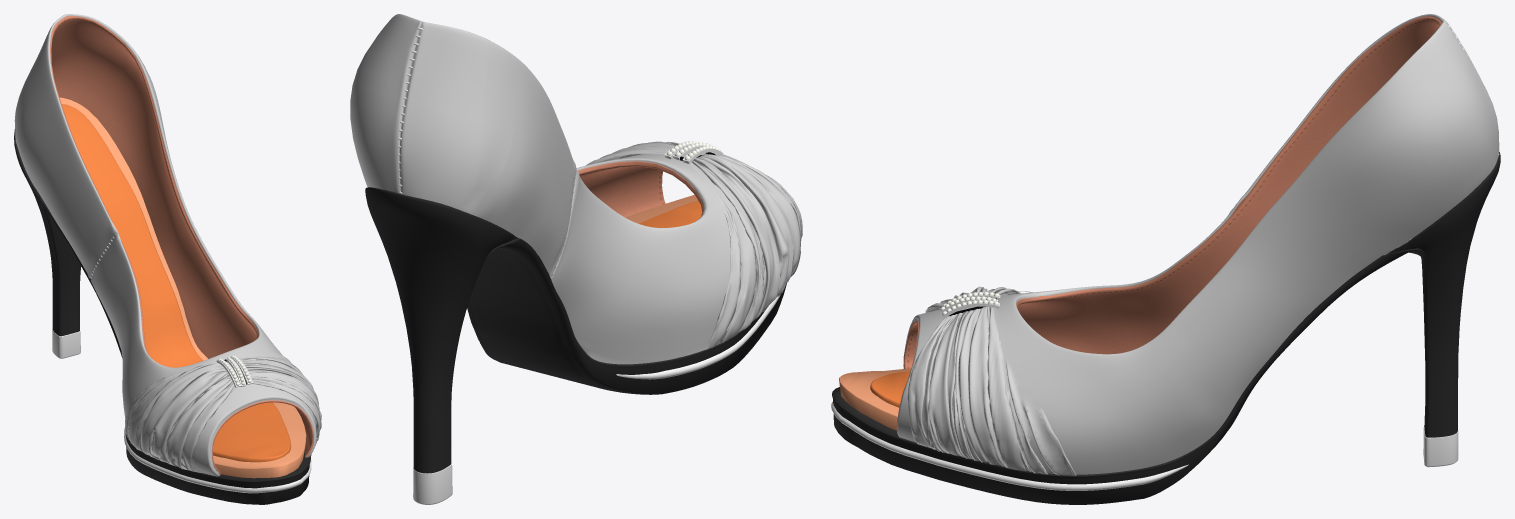
Rendered from SheenHighHeel.glb.
The picture shows the model from 3 angles, left to right: view 1: azimuth 30°, elevation 25°; view 2: azimuth 150°, elevation 25°; view 3: azimuth 270°, elevation 25°; orthographic projection. The views are drawn at different scales.
Parts seen in each view (by area): view 1: Outer, Inner, Pad, Ornament, Sole, Footrest, Metal, Pearls; view 2: Outer, Sole, Ornament, Inner, Metal, Pad, Footrest; view 3: Outer, Sole, Inner, Ornament, Metal, Footrest, Pad.
Part boxes in pixels (<box>): Outer: <box>14,14,316,476</box>; Inner: <box>50,16,313,475</box>; Pad: <box>62,104,291,462</box>; Ornament: <box>125,352,321,472</box>; Sole: <box>14,128,311,504</box>; Footrest: <box>60,97,306,478</box>; Metal: <box>52,233,311,493</box>; Pearls: <box>218,355,251,385</box>; Outer: <box>350,14,802,364</box>; Sole: <box>365,187,786,473</box>; Ornament: <box>586,141,801,349</box>; Inner: <box>578,161,703,217</box>; Metal: <box>398,27,780,504</box>; Pad: <box>639,201,702,227</box>; Footrest: <box>625,195,697,223</box>; Outer: <box>897,14,1499,474</box>; Sole: <box>832,152,1500,504</box>; Inner: <box>896,16,1442,434</box>; Ornament: <box>907,286,1076,475</box>; Metal: <box>831,24,1499,490</box>; Footrest: <box>839,368,911,430</box>; Pad: <box>870,371,910,407</box>.
Size of the model in its own units: 9.93 by 19.09 by 26.22.
8 materials, 1 textured.
